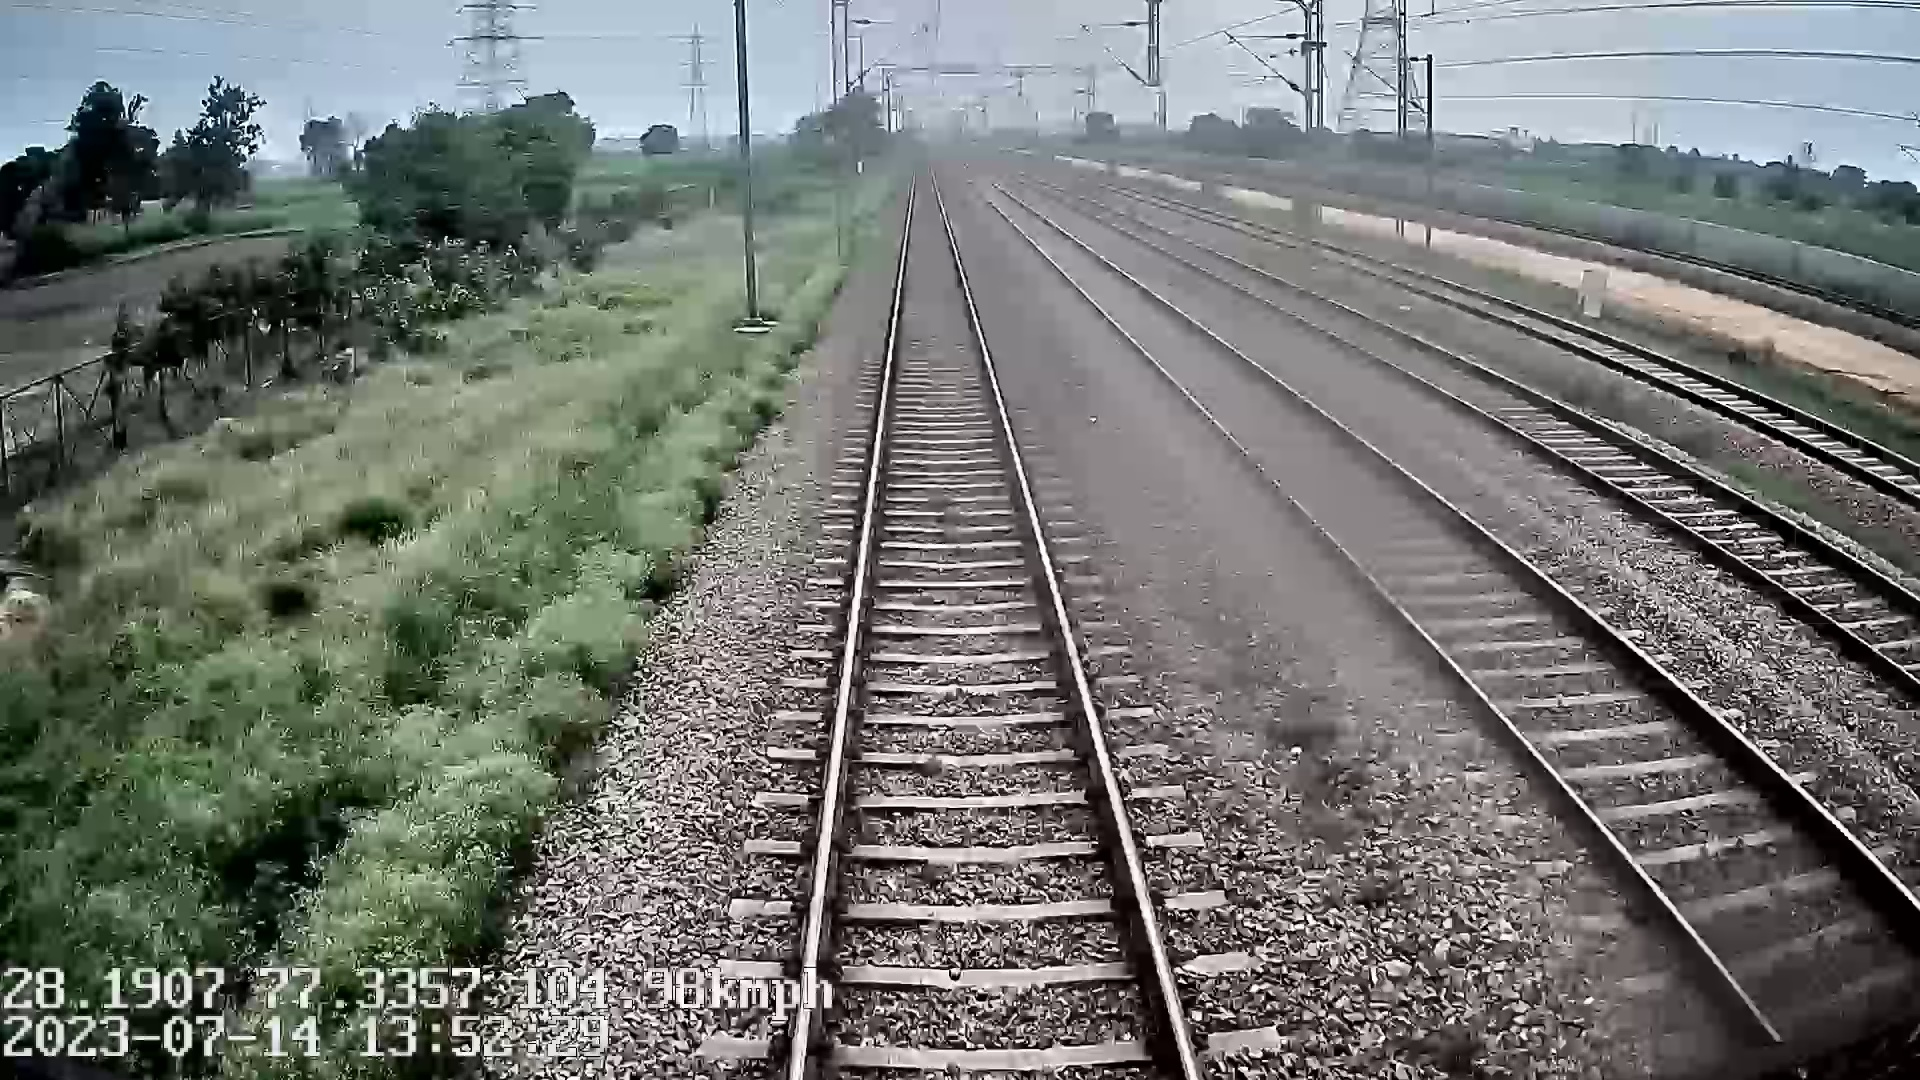track1: (796, 182, 1191, 1067)
track2: (982, 186, 1919, 1025)
track3: (1048, 187, 1917, 670)
track4: (1105, 181, 1919, 492)
